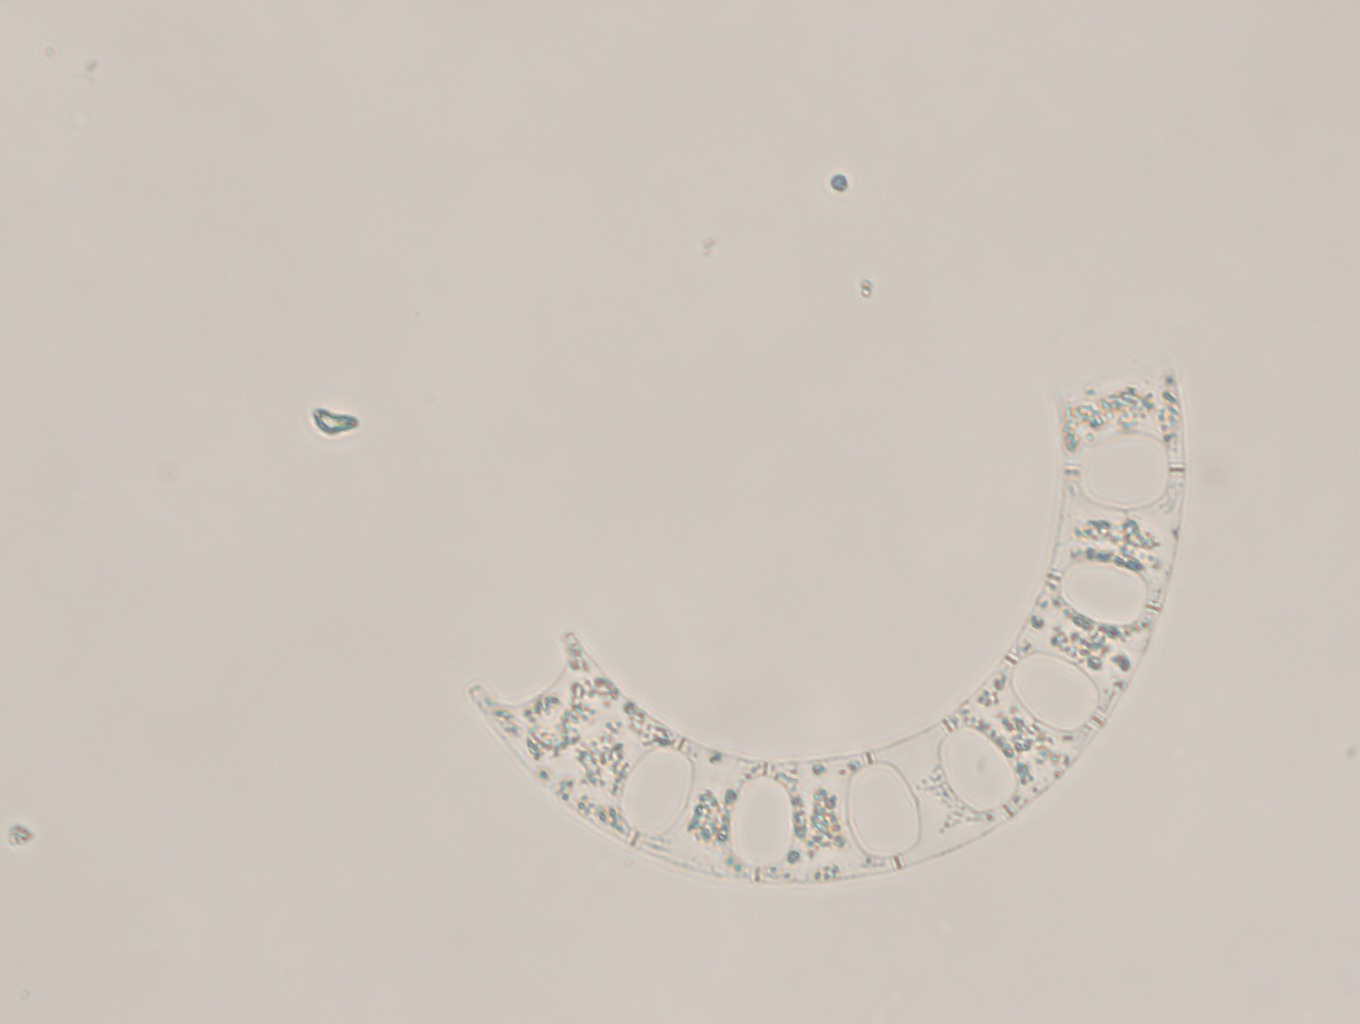eucampia: (457, 355, 1198, 890)
